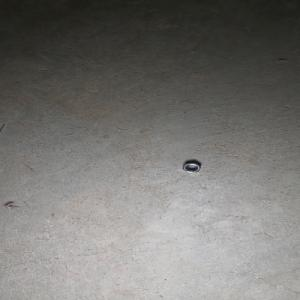Nut: (182, 161, 201, 173)
